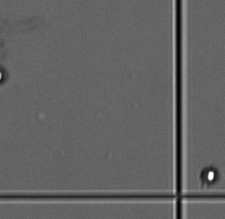Living Cell: (199, 165, 218, 185), (1, 67, 7, 84)
